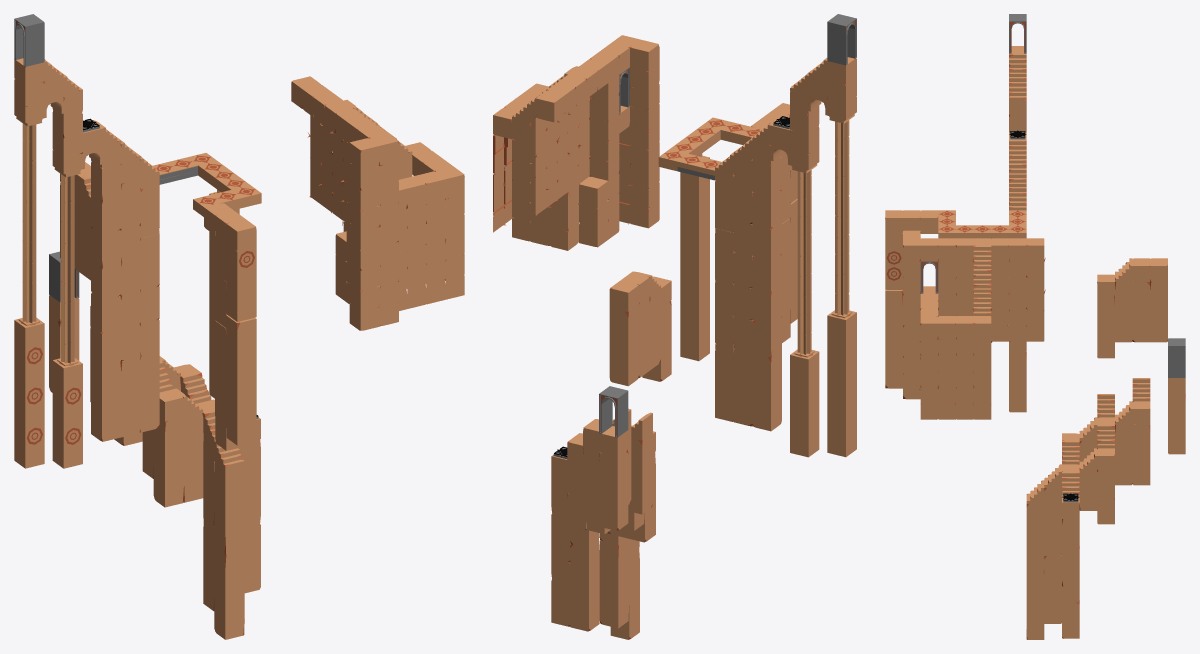
Rendered from Stage5-1.fbx.
3 views of the same model, side by side, from view 1: azimuth 30°, elevation 25°; view 2: azimuth 150°, elevation 25°; view 3: azimuth 270°, elevation 25° (orthographic). The views are drawn at different scales.
Visible parts, largest first — view 1: Box698, Star004, Box779, Box780, Star003, Box786, Box720, Box785, Box699, Box723, Box727, Door008 (+56 smaller); view 2: Star004, Star003, Box777, Box778, Box798, Box799, Box720, Box794, Box723, Box727, Door008, Door007 (+77 smaller); view 3: Box698, Box780, Box779, Box777, Box776, Box796, Box822, Box727, Box799, Box798, Box793, Box795 (+38 smaller).
Boxes of the visible parts, bbox=[...] form: Box698: bbox=[226, 315, 256, 445]; Star004: bbox=[22, 123, 36, 322]; Box779: bbox=[214, 462, 244, 554]; Box780: bbox=[214, 547, 244, 639]; Star003: bbox=[61, 174, 74, 363]; Box786: bbox=[153, 417, 183, 507]; Box720: bbox=[91, 358, 121, 441]; Box785: bbox=[183, 413, 203, 502]; Box699: bbox=[215, 320, 244, 450]; Box723: bbox=[120, 357, 140, 437]; Box727: bbox=[139, 352, 159, 432]; Door008: bbox=[14, 14, 44, 66]; Star004: bbox=[835, 120, 849, 315]; Star003: bbox=[797, 154, 811, 354]; Box777: bbox=[599, 538, 629, 628]; Box778: bbox=[570, 541, 599, 631]; Box798: bbox=[609, 305, 639, 386]; Box799: bbox=[599, 449, 628, 530]; Box720: bbox=[752, 350, 781, 431]; Box794: bbox=[628, 433, 652, 514]; Box723: bbox=[733, 348, 752, 426]; Box727: bbox=[715, 344, 734, 421]; Door008: bbox=[827, 14, 856, 65]; Door007: bbox=[599, 386, 628, 437]; Box698: bbox=[885, 289, 902, 388]; Box780: bbox=[1026, 571, 1044, 639]; Box779: bbox=[1026, 504, 1044, 571]; Box777: bbox=[1044, 555, 1061, 623]; Box776: bbox=[1044, 488, 1061, 555]; Box796: bbox=[1132, 424, 1150, 485]; Box822: bbox=[1132, 281, 1150, 342]; Box727: bbox=[1009, 351, 1026, 412]; Box799: bbox=[1168, 393, 1185, 454]; Box798: bbox=[1150, 282, 1167, 342]; Box793: bbox=[1115, 282, 1132, 342]; Box795: bbox=[1115, 425, 1132, 485].
Bounding box in the file's own units: 400 × 670 × 340.
